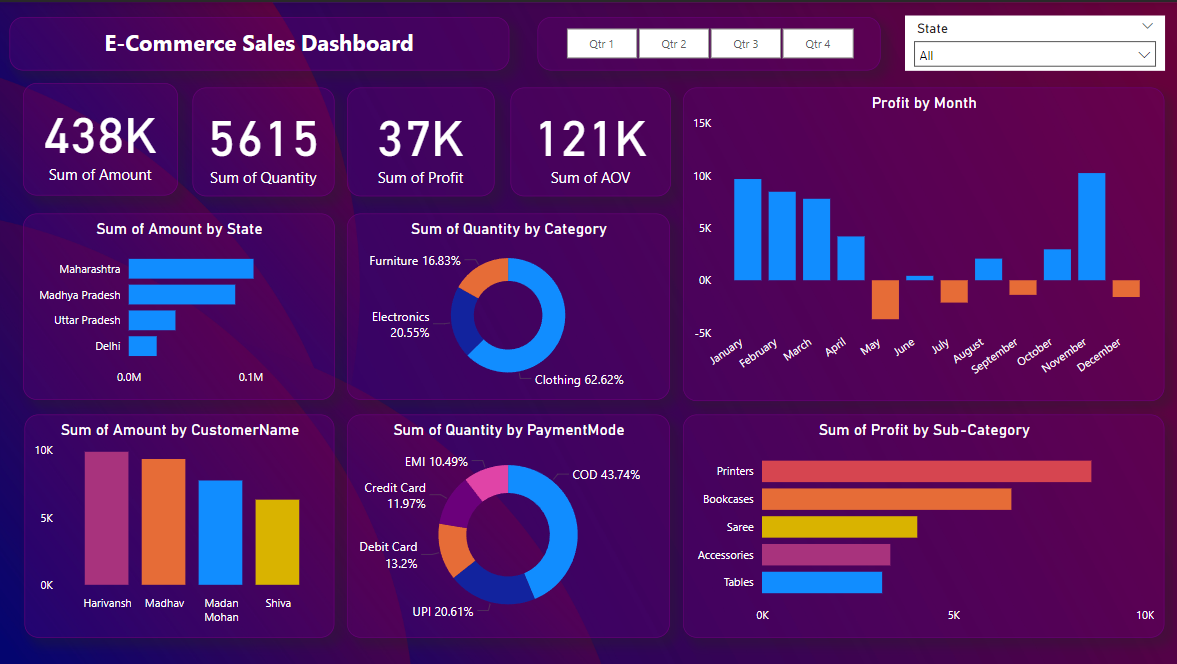

The dashboard page shown, as its layout file describes it:
{"tool":"powerbi","page":{"name":"Page 1","canvas":[1280,720],"ordinal":0},"visuals":[{"type":"textbox","box":[12,16,542,58],"z":0},{"type":"columnChart","title":"Profit by Month","fields":{"Category":["Orders.Order Date.Variation.Date Hierarchy.Month"],"Y":["Details.Profit"]},"box":[742,92,522,340],"z":1000},{"type":"clusteredBarChart","fields":{"Category":["Details.Sub-Category"],"Y":["Details.Profit"]},"box":[742,448,522,242],"z":2000},{"type":"donutChart","fields":{"Category":["Details.Category"],"Y":["Details.Quantity"]},"box":[378,230,350,202],"z":3000},{"type":"donutChart","fields":{"Category":["Details.PaymentMode"],"Y":["Details.Quantity"]},"box":[378,448,350,242],"z":4000},{"type":"card","fields":{"Values":["Details.Amount"]},"box":[26,88,168,122],"z":5000},{"type":"card","fields":{"Values":["Details.Quantity"]},"box":[210,92,154,118],"z":6000},{"type":"card","fields":{"Values":["Details.Profit"]},"box":[378,92,160,118],"z":7000},{"type":"card","fields":{"Values":["Details.AOV"]},"box":[554,92,174,118],"z":8000},{"type":"clusteredBarChart","fields":{"Category":["Orders.State"],"Y":["Details.Amount"]},"box":[26,230,338,202],"z":9000},{"type":"columnChart","fields":{"Category":["Orders.CustomerName"],"Y":["Details.Amount"]},"box":[28,448,336,242],"z":10000},{"type":"slicer","fields":{"Values":["Orders.Order Date.Variation.Date Hierarchy.Quarter"]},"box":[584,16,372,58],"z":11000},{"type":"slicer","fields":{"Values":["Orders.State"]},"box":[982,14,282,60],"z":12000}]}

Visuals, with their boxes in screenshot pixels (x1, y1, x2, y2), scaled from the page's 1280x720 canvas onto the 1177x664 screenshot:
textbox: region(11, 15, 509, 68)
"Profit by Month" columnChart: region(682, 85, 1162, 398)
clusteredBarChart - Details.Sub-Category x Details.Profit: region(682, 413, 1162, 636)
donutChart - Details.Category x Details.Quantity: region(348, 212, 669, 398)
donutChart - Details.PaymentMode x Details.Quantity: region(348, 413, 669, 636)
card - Details.Amount: region(24, 81, 178, 194)
card - Details.Quantity: region(193, 85, 335, 194)
card - Details.Profit: region(348, 85, 495, 194)
card - Details.AOV: region(509, 85, 669, 194)
clusteredBarChart - Orders.State x Details.Amount: region(24, 212, 335, 398)
columnChart - Orders.CustomerName x Details.Amount: region(26, 413, 335, 636)
slicer - Orders.Order Date.Variation.Date Hierarchy.Quarter: region(537, 15, 879, 68)
slicer - Orders.State: region(903, 13, 1162, 68)
